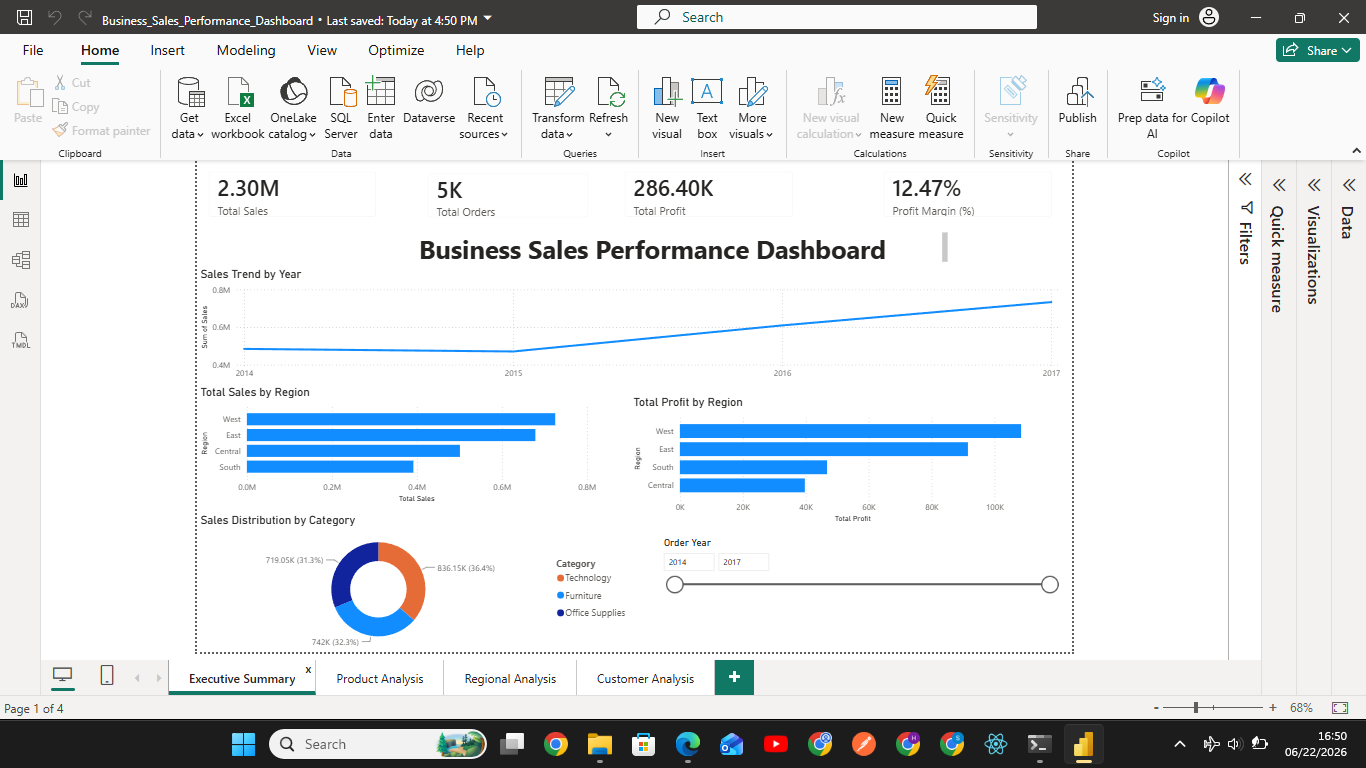

What the dashboard file says about the page in this screenshot:
{"tool":"powerbi","page":{"name":"Executive Summary","canvas":[1280,720],"ordinal":0},"visuals":[{"type":"cardVisual","title":"Total Sales Revenue","fields":{"Data":["Sum(cleaned_superstore.Sales)"]},"box":[0,0,279.5,101],"z":0},{"type":"cardVisual","fields":{"Data":["Sum(cleaned_superstore.Profit)"]},"box":[608.8,0,281,101],"z":1000},{"type":"cardVisual","fields":{"Data":["cleaned_superstore.Overall Profit Margin"]},"box":[987.8,0,281,101],"z":2000},{"type":"lineChart","title":"Sales Trend by Year","fields":{"Category":["cleaned_superstore.Order Year"],"Y":["Sum(cleaned_superstore.Sales)"]},"box":[0,156.2,1268.2,173],"z":3000},{"type":"clusteredBarChart","title":"Total Sales by Region","fields":{"Category":["cleaned_superstore.Region"],"Y":["Sum(cleaned_superstore.Sales)"]},"box":[0,329.2,589.6,176.4],"z":4000},{"type":"clusteredBarChart","title":"Total Profit by Region","fields":{"Category":["cleaned_superstore.Region"],"Y":["Sum(cleaned_superstore.Profit)"]},"box":[633.8,343.3,598.6,191.9],"z":5000},{"type":"donutChart","title":"Sales Distribution by Category","fields":{"Category":["cleaned_superstore.Category"],"Y":["Sum(cleaned_superstore.Sales)"]},"box":[0,515.9,640.9,204.2],"z":6000},{"type":"slicer","fields":{"Values":["cleaned_superstore.Order Year"]},"box":[670.2,547.3,598.5,172.7],"z":7000},{"type":"textbox","box":[320.4,100.4,783.5,56.3],"z":8000},{"type":"cardVisual","fields":{"Data":["cleaned_superstore.Total Unique Orders"]},"box":[320.5,2.9,269.3,98],"z":9000}]}

Visuals, with their boxes on the page's 1280x720 design canvas (x1, y1, x2, y2). These are canvas units, not pixel positions in the 1366x768 screenshot, which may show the page scaled, cropped or inside an application window:
"Total Sales Revenue" cardVisual: bbox=[0, 0, 280, 101]
cardVisual - Sum(cleaned_superstore.Profit): bbox=[609, 0, 890, 101]
cardVisual - cleaned_superstore.Overall Profit Margin: bbox=[988, 0, 1269, 101]
"Sales Trend by Year" lineChart: bbox=[0, 156, 1268, 329]
"Total Sales by Region" clusteredBarChart: bbox=[0, 329, 590, 506]
"Total Profit by Region" clusteredBarChart: bbox=[634, 343, 1232, 535]
"Sales Distribution by Category" donutChart: bbox=[0, 516, 641, 720]
slicer - cleaned_superstore.Order Year: bbox=[670, 547, 1269, 720]
textbox: bbox=[320, 100, 1104, 157]
cardVisual - cleaned_superstore.Total Unique Orders: bbox=[320, 3, 590, 101]
